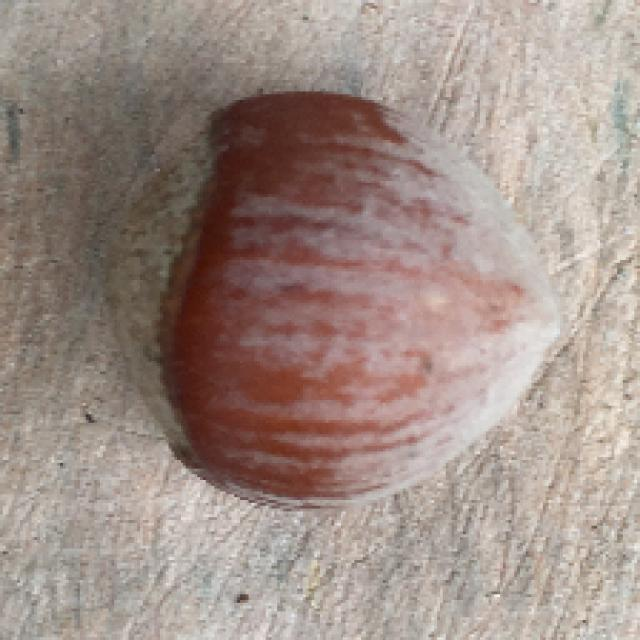QualityHazelnut: (96, 91, 565, 509)
